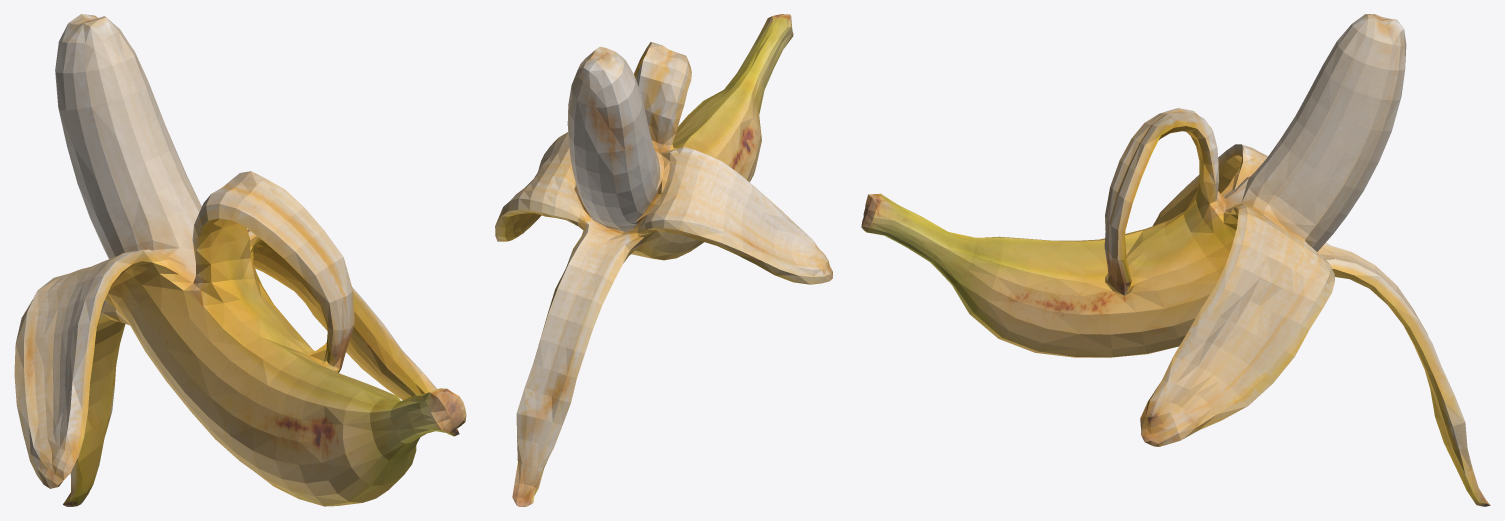
Rendered from 0QXBDQJ40Y8IU2IERN1ZNMFP0.obj.
The picture shows the model from 3 angles, left to right: view 1: azimuth 30°, elevation 25°; view 2: azimuth 150°, elevation 25°; view 3: azimuth 270°, elevation 25°; orthographic projection. The views are drawn at different scales.
Visible parts, largest first — view 1: Object_TexMap; view 2: Object_TexMap; view 3: Object_TexMap.
Part boxes in pixels (x1,y1,x2,y2): Object_TexMap: (14, 14, 466, 506); Object_TexMap: (495, 14, 832, 506); Object_TexMap: (861, 14, 1490, 506).
Size of the model in its own units: 1.62 by 2.08 by 2.5.
Materials: 1 (1 with a texture image).
